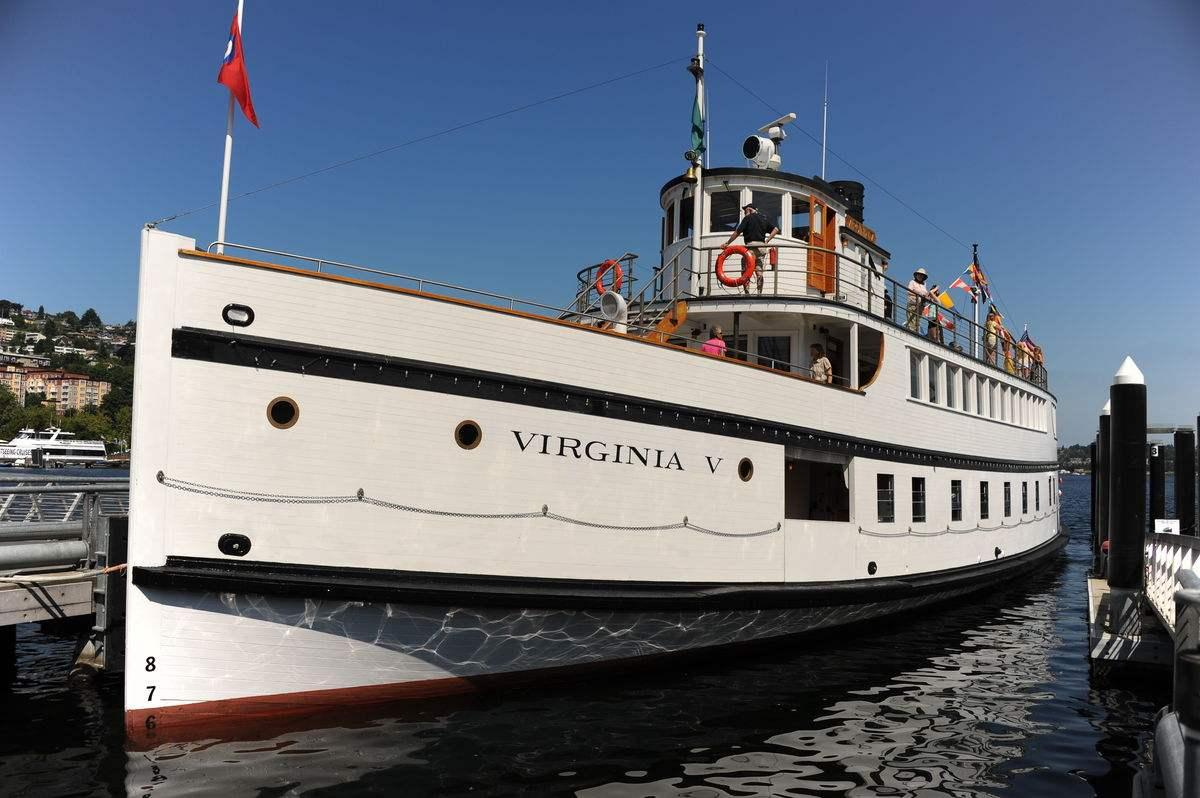yacht: (104, 27, 1068, 734)
